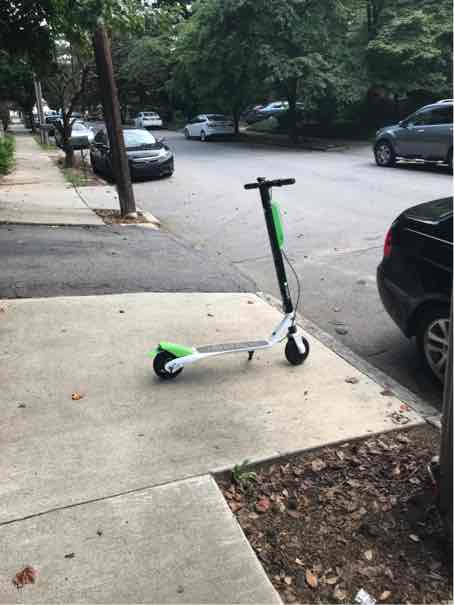scooter: (145, 165, 315, 390)
